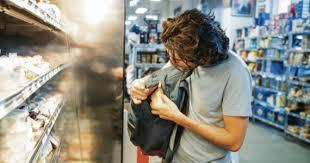shoplifting: (126, 70, 260, 160)
